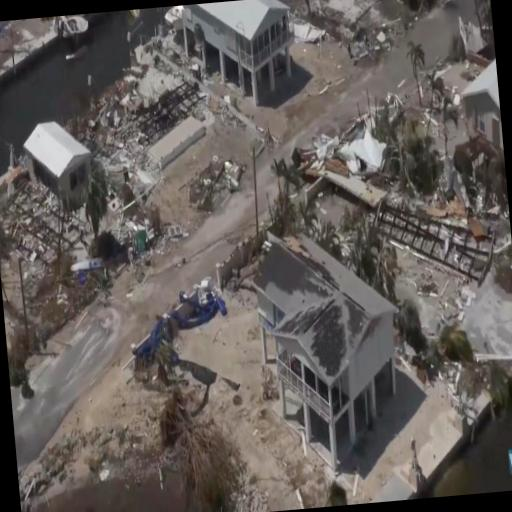flood: (0, 10, 130, 178), (433, 394, 512, 497)
house: (244, 228, 414, 470), (186, 0, 301, 91), (22, 116, 99, 202), (459, 60, 504, 152)
